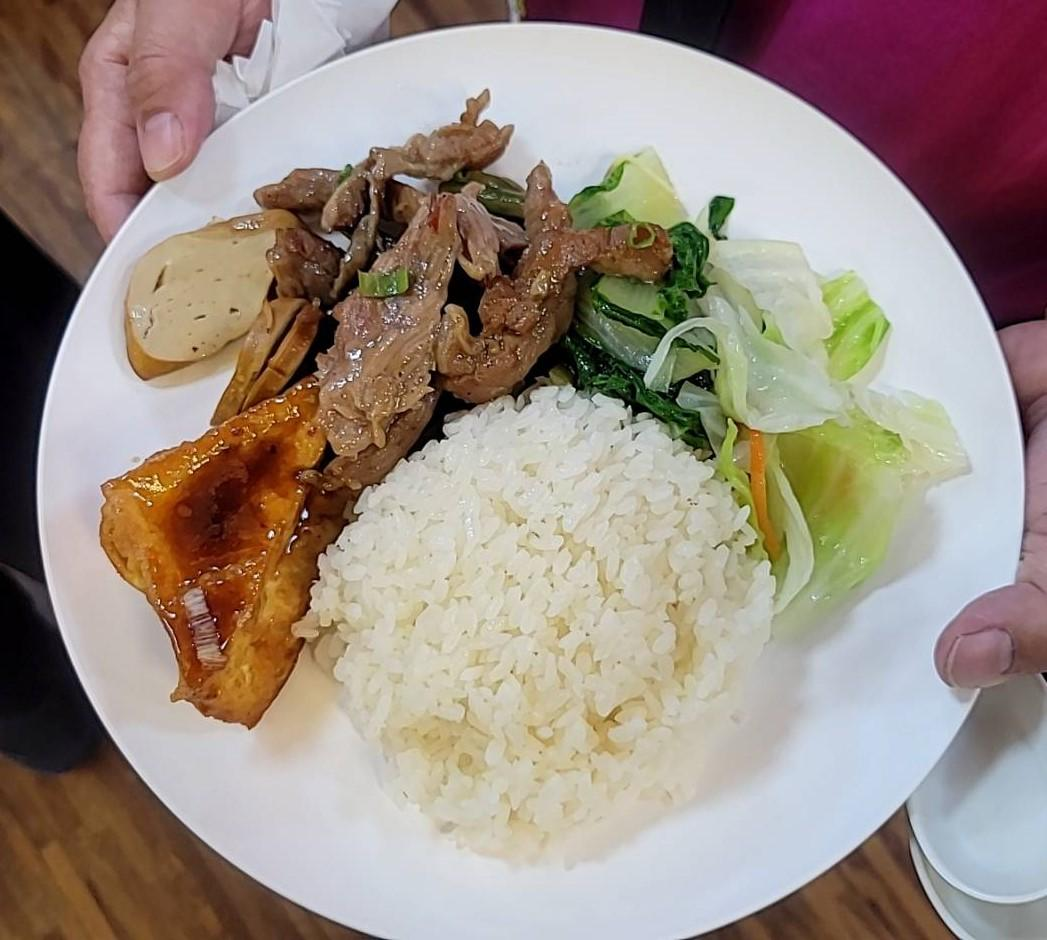big fried chicken leg: (30, 18, 1045, 940)
big herbal chicken leg: (322, 394, 778, 869)
braised fish fillet: (723, 242, 973, 614), (96, 383, 335, 737), (119, 190, 320, 411), (578, 151, 717, 437)
braised pork: (288, 98, 616, 447)
